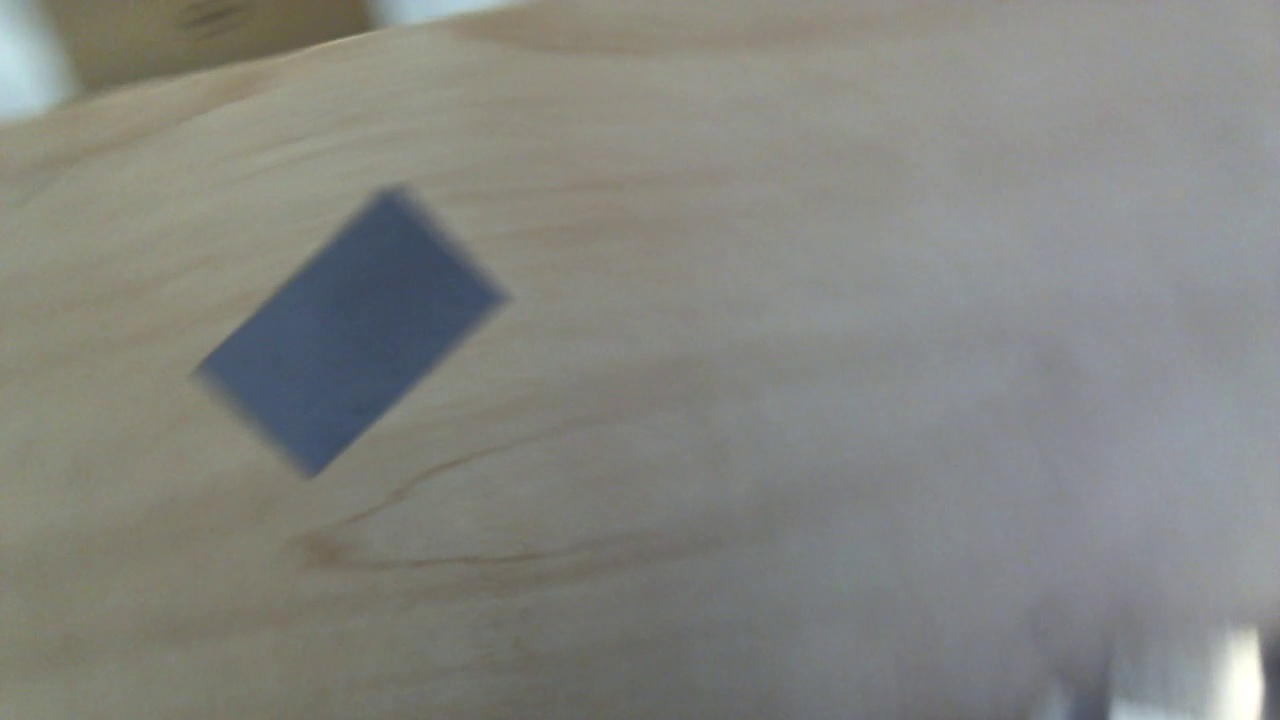Tape: (190, 177, 518, 478)
